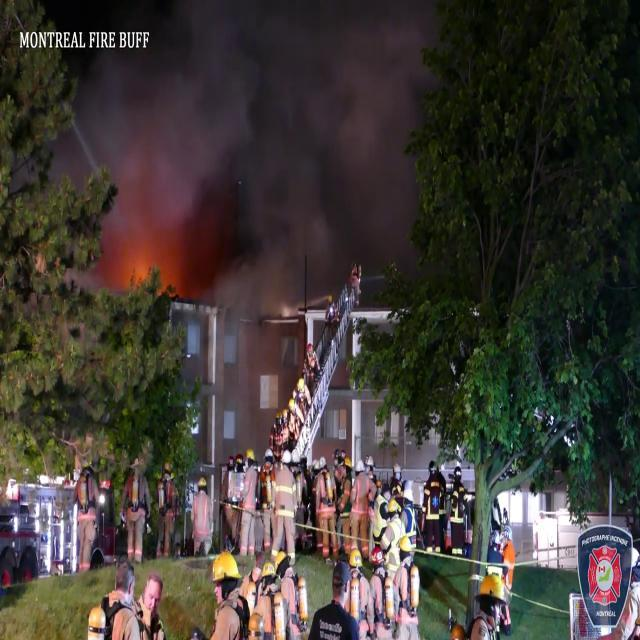Smoke: (72, 1, 444, 298)
